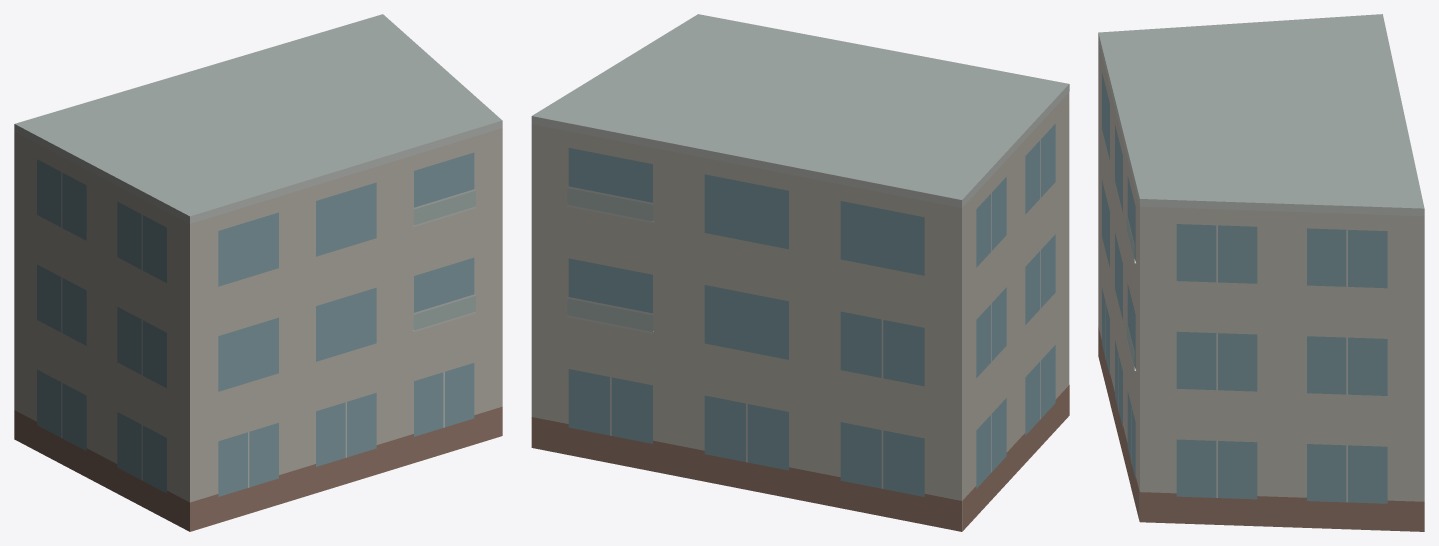
The model's file is survey-upis-32487704.glb.
3 renders of one model, left to right at view 1: azimuth 30°, elevation 25°; view 2: azimuth 150°, elevation 25°; view 3: azimuth 270°, elevation 25°, orthographic. The views are drawn at different scales.
Visible parts, largest first — view 1: survey-upis-32487704.tmp; view 2: survey-upis-32487704.tmp; view 3: survey-upis-32487704.tmp.
Part boxes in pixels (x1,y1,x2,y2): survey-upis-32487704.tmp: (14, 14, 502, 531); survey-upis-32487704.tmp: (531, 14, 1069, 531); survey-upis-32487704.tmp: (1098, 14, 1424, 531).
Bounding box in the file's own units: 13.17 × 10.2 × 9.34.
